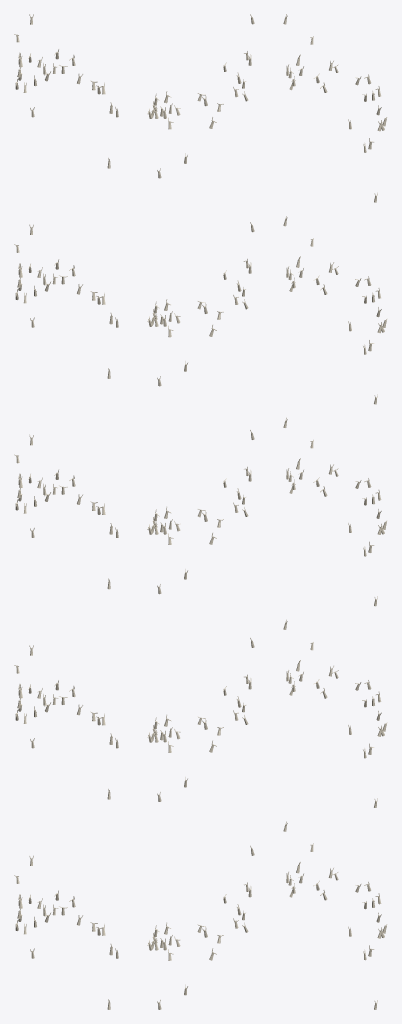
File: Circle2Crowd3.obj
3 renders of one model, left to right at view 1: azimuth 30°, elevation 25°; view 2: azimuth 150°, elevation 25°; view 3: azimuth 330°, elevation 25°, orthographic. The views are drawn at different scales.
Visible parts, largest first — view 1: Circle2Crowd3; view 2: Circle2Crowd3; view 3: Circle2Crowd3.
Part boxes in pixels (<box>): Circle2Crowd3: <box>14,14,118,1009</box>; Circle2Crowd3: <box>147,14,254,1009</box>; Circle2Crowd3: <box>283,14,387,1009</box>.
Size of the model in its own units: 28.74 by 316 by 25.11.
1 material, 1 textured.
